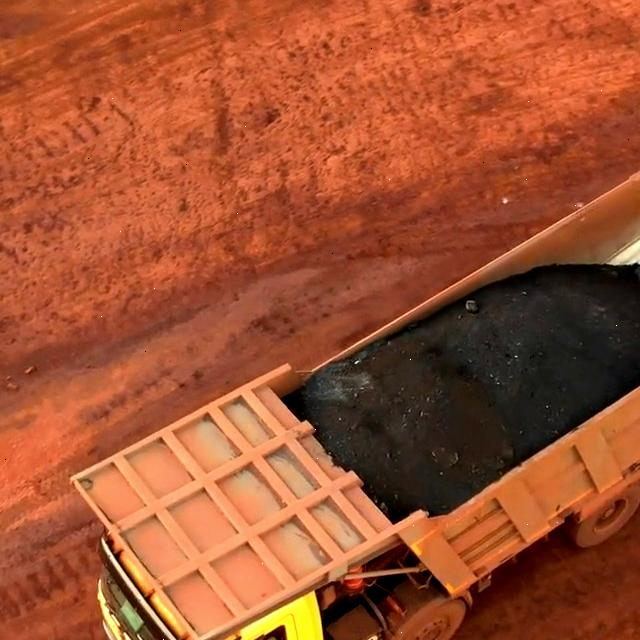Dumper truck: (92, 408, 387, 640)
